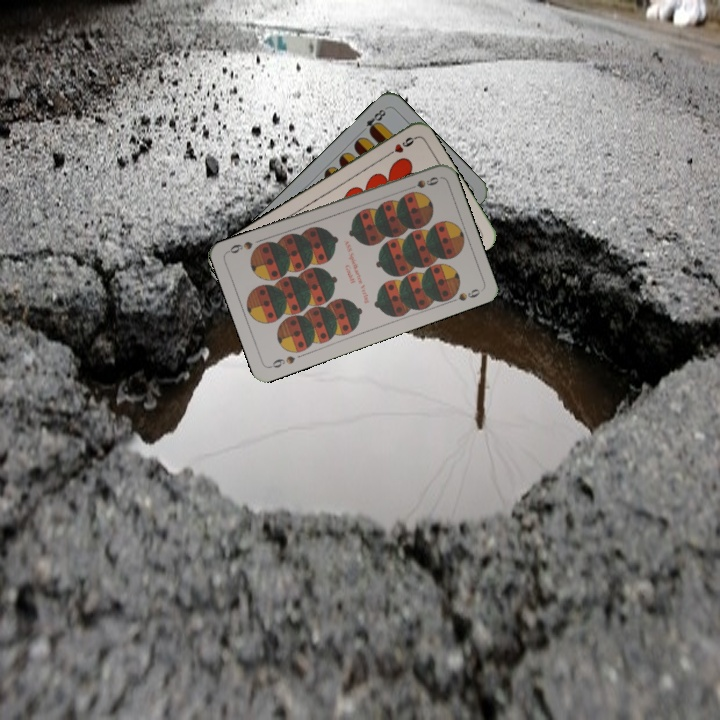E8: (356, 104, 389, 136)
H9: (382, 133, 418, 160)
S9: (402, 173, 442, 193), (266, 351, 298, 371)
